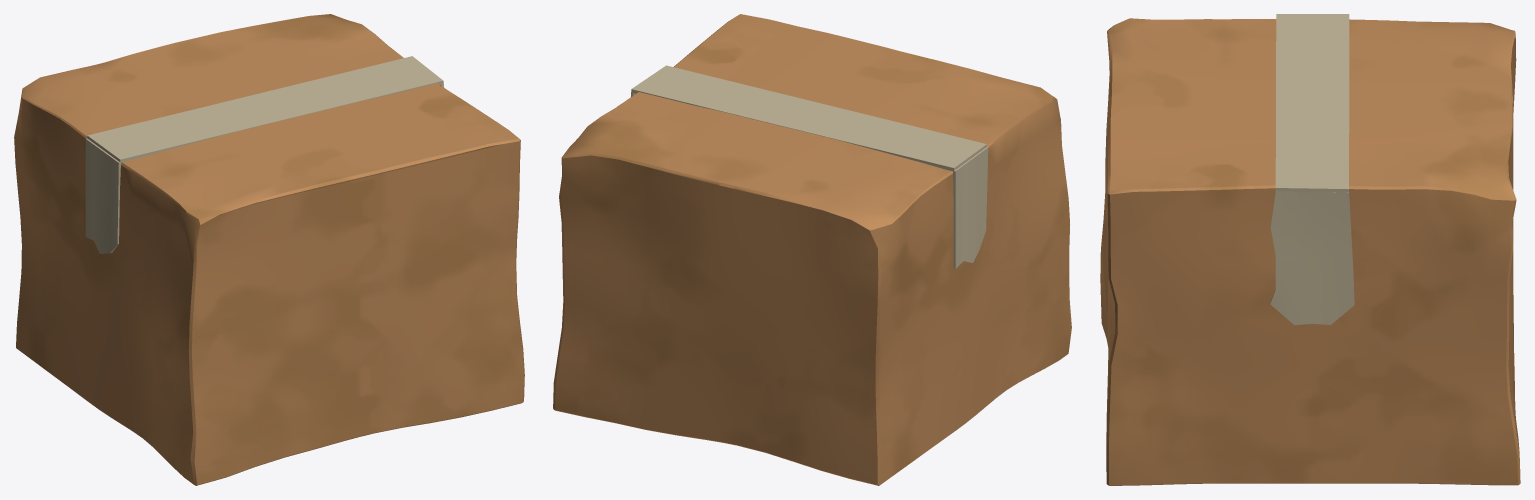
Rendered from square_box.fbx.
3 views of the same model, side by side, from view 1: azimuth 30°, elevation 25°; view 2: azimuth 150°, elevation 25°; view 3: azimuth 270°, elevation 25° (orthographic). The views are drawn at different scales.
Visible parts, largest first — view 1: square_box; view 2: square_box; view 3: square_box.
Part boxes in pixels (x1,y1,x2,y2): square_box: (14, 14, 524, 485); square_box: (553, 14, 1071, 485); square_box: (1100, 14, 1520, 485).
Bounding box in the file's own units: 2.9 × 2.22 × 2.82.
2 materials, 1 textured.
